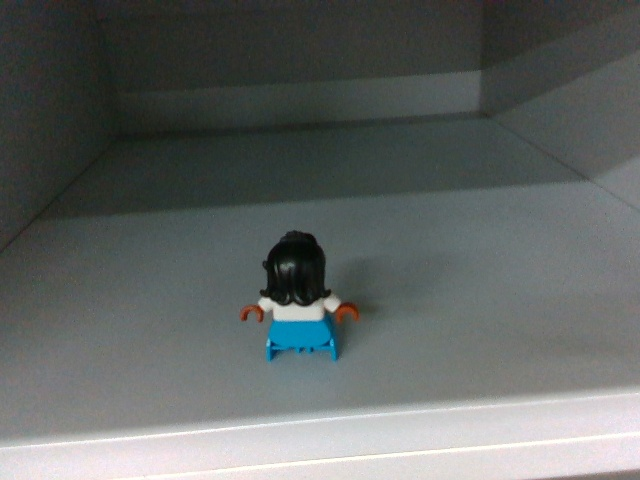people: (237, 228, 361, 363)
